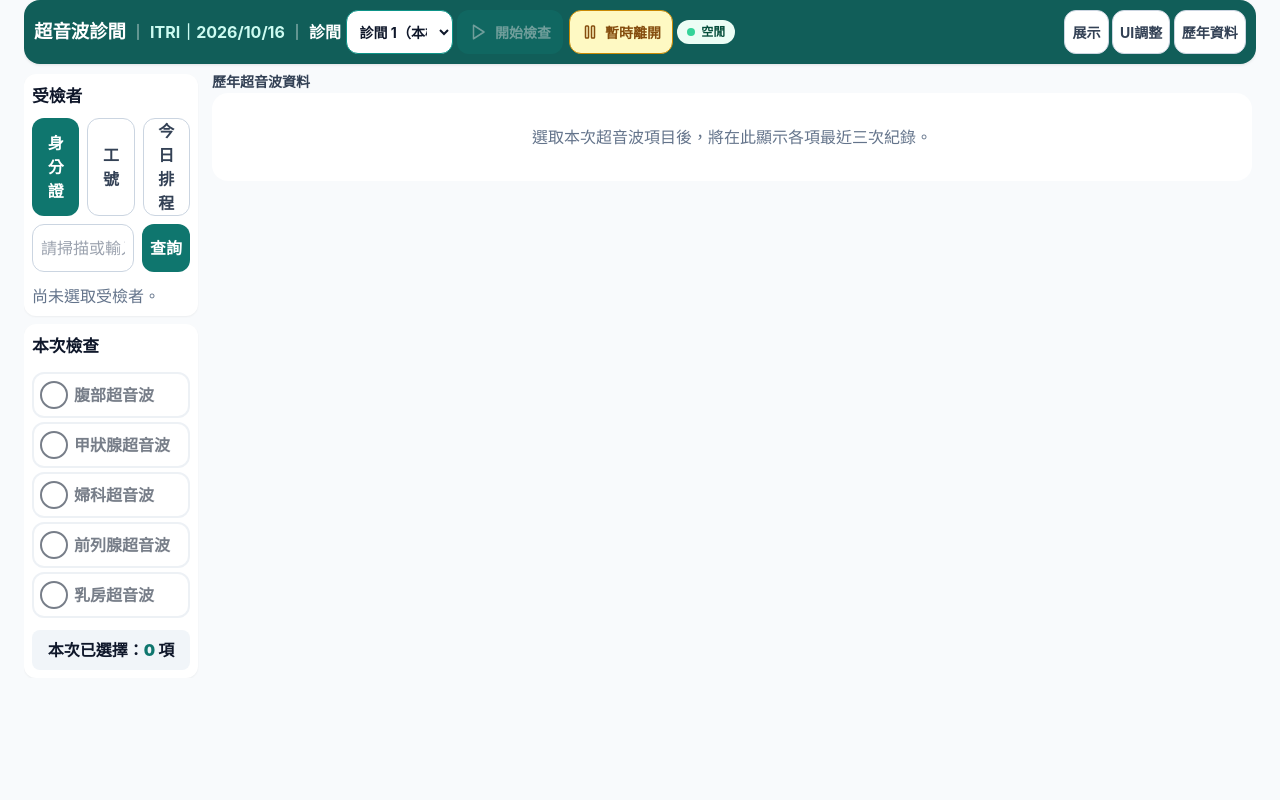
診間選擇今日受檢者共用正式候檢順位 › standard使用server最終順位A B C G promoted D，顯示內部完整姓名
The width and height of the screenshot is (1280, 800).
What coordinates should you click on to do the following:
click the button "今日排程"
I would click on:
 (166, 167)
Its box is x1=143 y1=118 x2=190 y2=216.
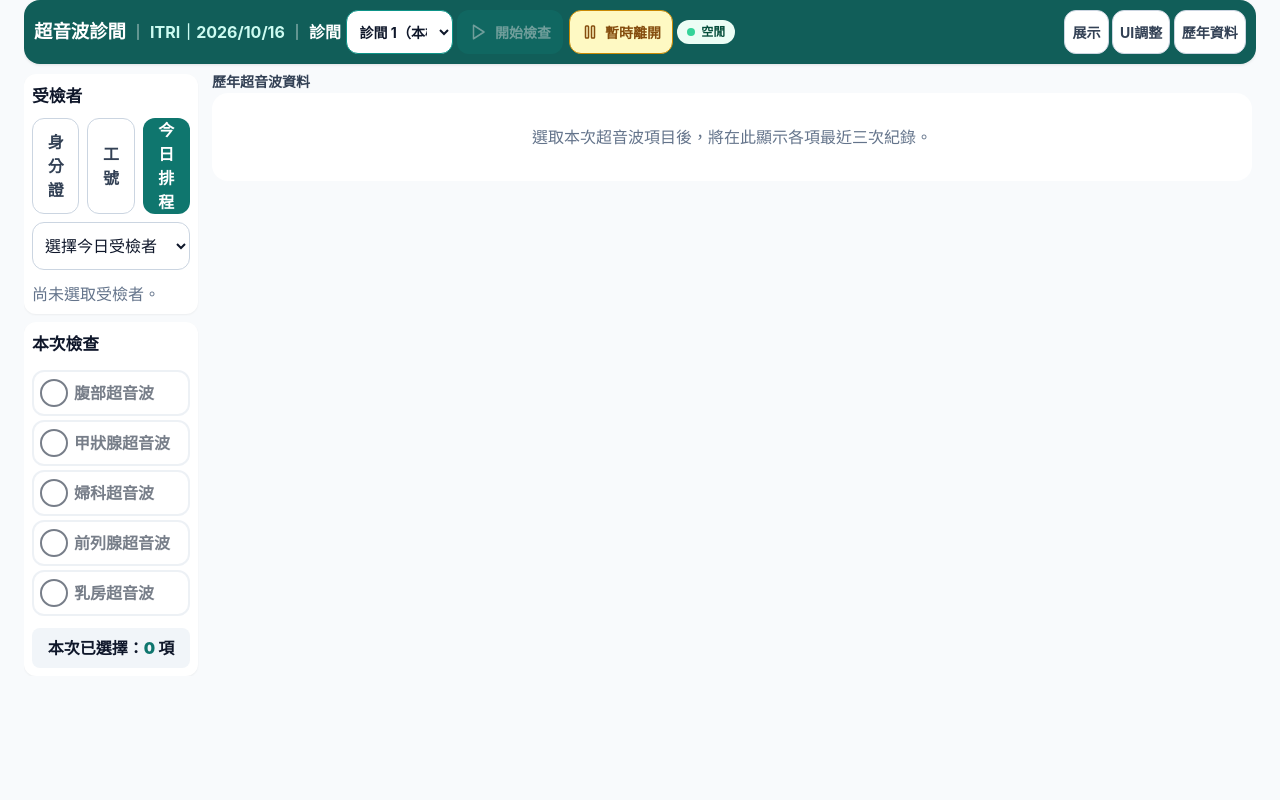
expect the dropdown named "今日受檢者" is enabled: met, box x1=32 y1=222 x2=190 y2=270
